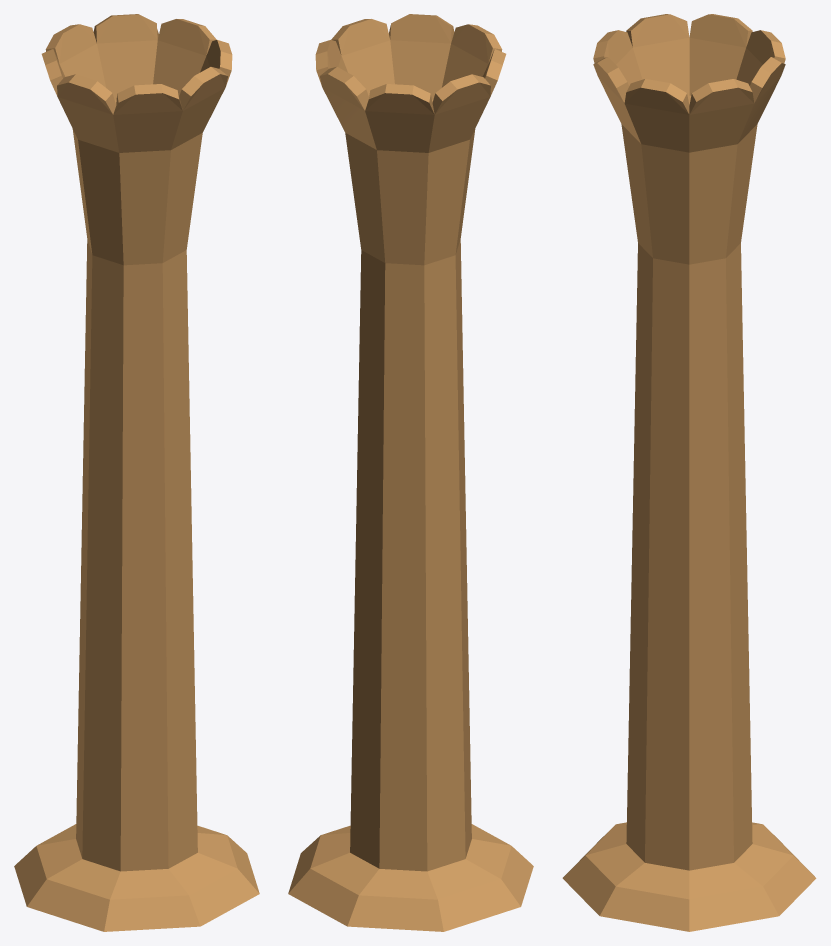
File: egypt_egypt-pillar-palm.fbx
3 views of the same model, side by side, from view 1: azimuth 30°, elevation 25°; view 2: azimuth 150°, elevation 25°; view 3: azimuth 270°, elevation 25° (orthographic).
Parts seen in each view (by area): view 1: egypt_egypt_pillar_palm; view 2: egypt_egypt_pillar_palm; view 3: egypt_egypt_pillar_palm.
Part boxes in pixels (x1=…): egypt_egypt_pillar_palm: x1=14, y1=14, x2=259, y2=931; egypt_egypt_pillar_palm: x1=288, y1=14, x2=533, y2=931; egypt_egypt_pillar_palm: x1=562, y1=14, x2=816, y2=931.
Size of the model in its own units: 55.55 by 200 by 55.55.
